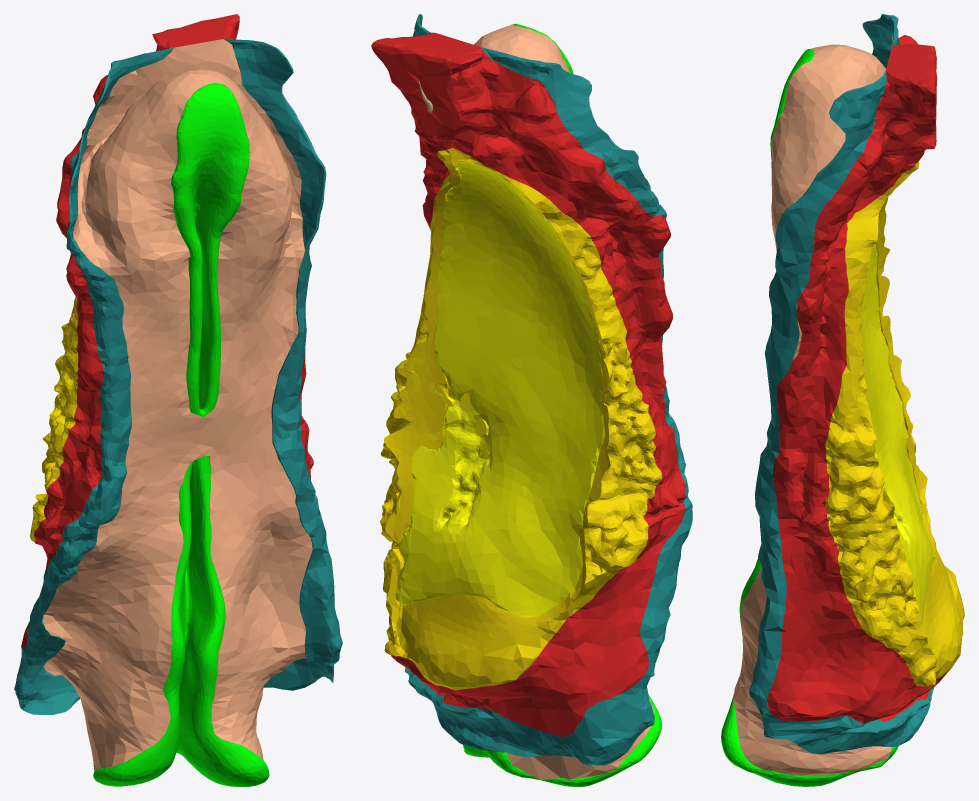
Rendered from CS10 - Jaco.fbx.
The picture shows the model from 3 angles, left to right: view 1: azimuth 30°, elevation 25°; view 2: azimuth 150°, elevation 25°; view 3: azimuth 270°, elevation 25°; orthographic projection. The views are drawn at different scales.
Parts seen in each view (by area): view 1: Skin, Amnion wall, Neural plate, Mesoderm outer layer, Yolk sac wall; view 2: Lumen gut and yolk sac, Mesoderm outer layer, Yolk sac wall, Amnion wall, Skin, Neural plate, Forming vitelline arteries; view 3: Mesoderm outer layer, Yolk sac wall, Amnion wall, Skin, Lumen gut and yolk sac, Neural plate.
Boxes of the visible parts, <box> form: Skin: <box>42,39,312,770</box>; Amnion wall: <box>14,38,342,714</box>; Neural plate: <box>93,83,269,786</box>; Mesoderm outer layer: <box>21,14,313,648</box>; Yolk sac wall: <box>30,296,78,542</box>; Lumen gut and yolk sac: <box>395,160,604,618</box>; Mesoderm outer layer: <box>371,33,685,737</box>; Yolk sac wall: <box>380,148,662,690</box>; Amnion wall: <box>404,14,692,765</box>; Skin: <box>474,23,657,779</box>; Neural plate: <box>463,23,661,786</box>; Forming vitelline arteries: <box>391,235,647,590</box>; Mesoderm outer layer: <box>767,35,946,724</box>; Yolk sac wall: <box>825,161,964,686</box>; Amnion wall: <box>749,14,933,754</box>; Skin: <box>733,37,898,775</box>; Lumen gut and yolk sac: <box>861,213,935,623</box>; Neural plate: <box>721,49,898,786</box>.
Size of the model in its own units: 7.85 by 5.91 by 19.58.
